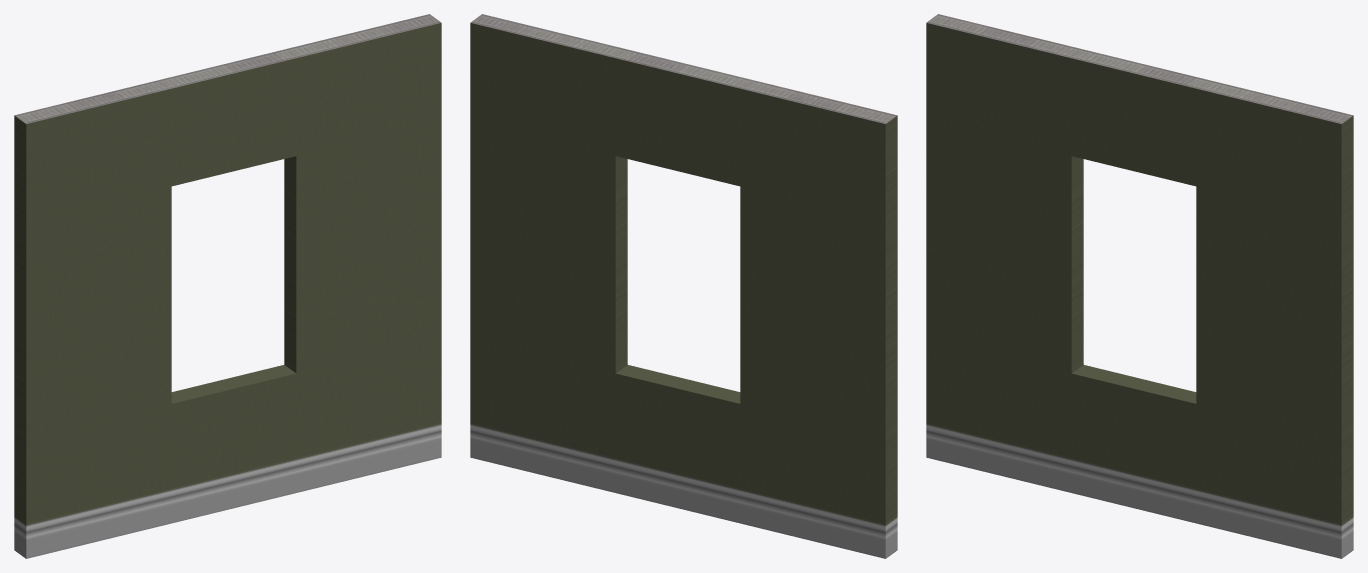
Rendered from wall2_4.fbx.
3 views of the same model, side by side, from view 1: azimuth 30°, elevation 25°; view 2: azimuth 150°, elevation 25°; view 3: azimuth 330°, elevation 25° (orthographic).
Parts seen in each view (by area): view 1: wall2_green_d; view 2: wall2_green_d; view 3: wall2_green_d.
Boxes of the visible parts, <box> form: wall2_green_d: <box>14,14,441,558</box>; wall2_green_d: <box>470,14,897,558</box>; wall2_green_d: <box>926,14,1353,558</box>.
Size of the model in its own units: 400 by 400 by 20.
